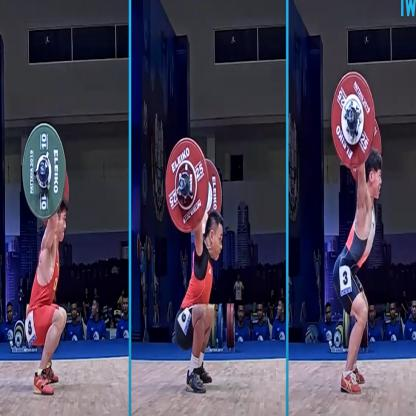Barbell: (329, 60, 378, 178), (162, 132, 211, 240), (19, 119, 67, 223)
